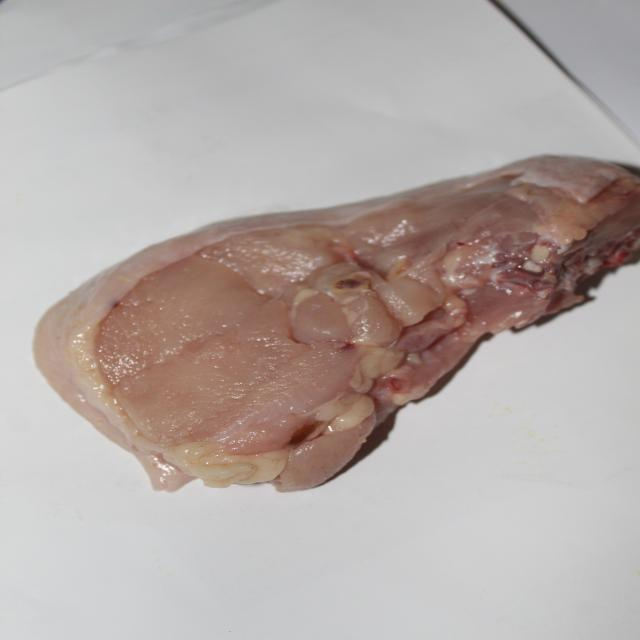chicken: (30, 156, 640, 486)
